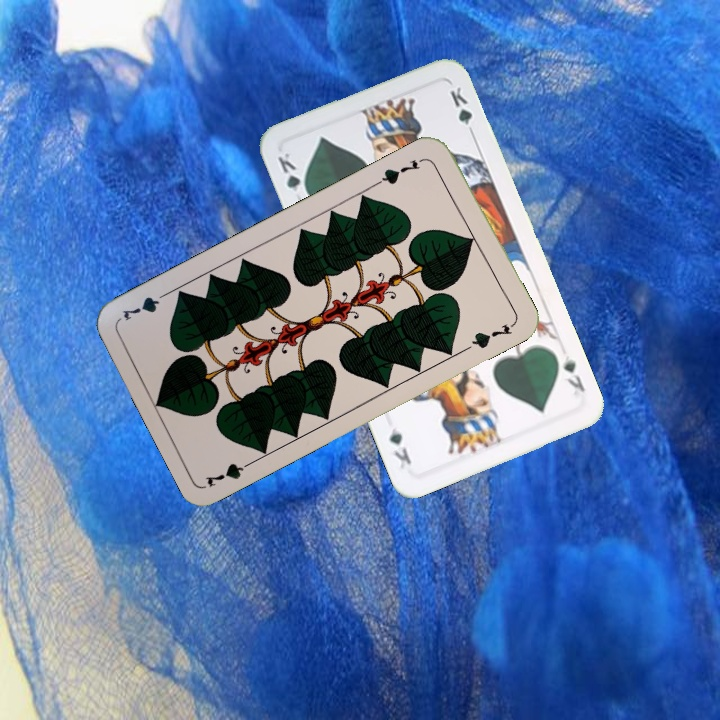G7: (201, 455, 259, 490), (374, 153, 429, 188)
GK: (273, 148, 312, 201), (559, 351, 588, 394)
